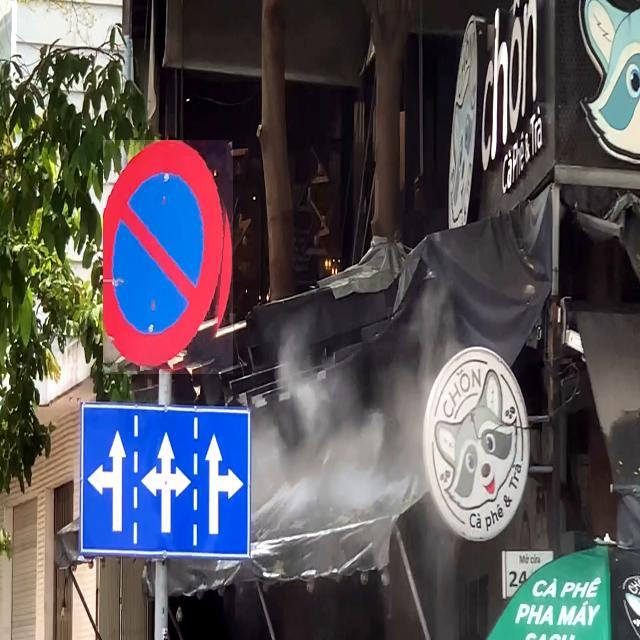P-131a: (103, 140, 233, 374)
